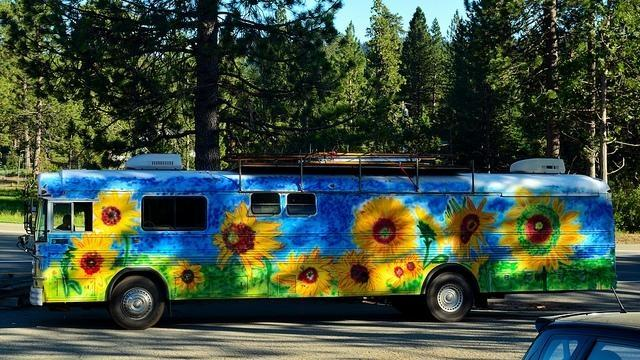bus: (31, 153, 614, 332)
car: (524, 286, 639, 359)
